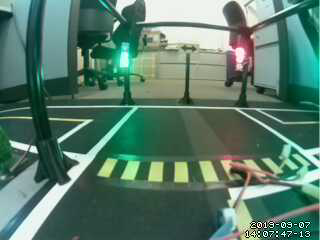Left_Right_sign: (174, 43, 203, 54)
Traffic_light_green: (118, 41, 130, 74)
Traffic_light_red: (232, 48, 246, 71)
